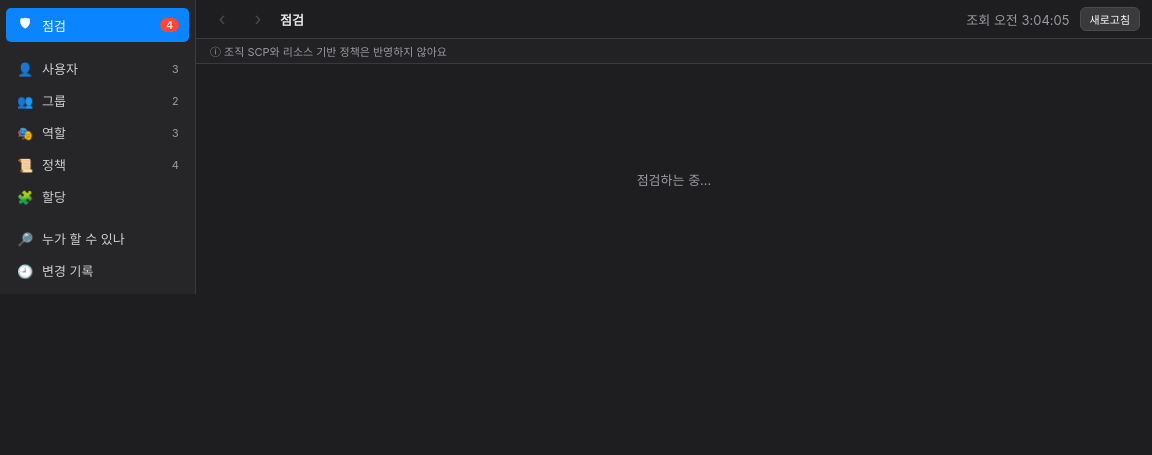
it: menu and lists › the findings view comes back from the other views
The image size is (1152, 455).
Expected: the navigation bar named "IAM 메뉴" is shown, [0,0,196,294]
Click the button "👥 그룹 2" at (98, 100), box [6,85,189,116]
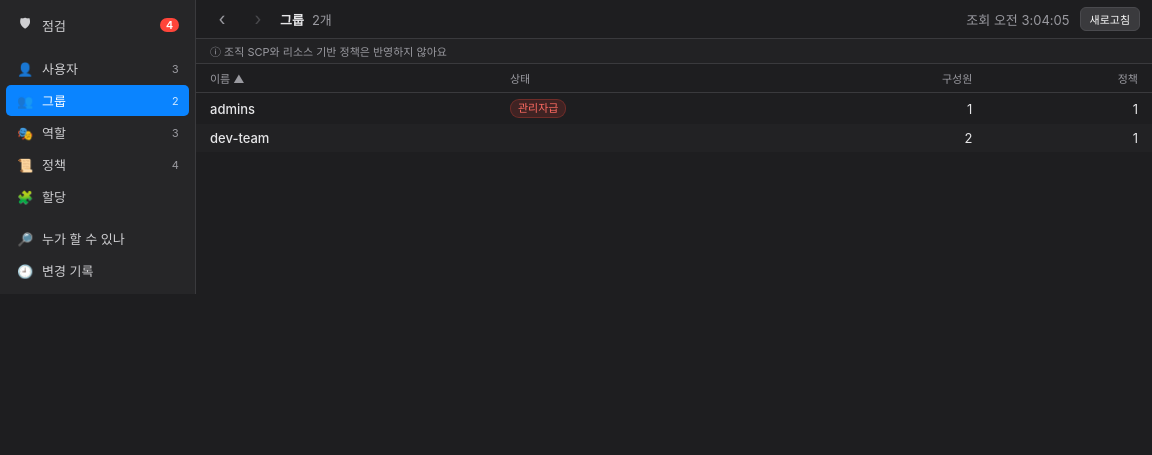
Click the button "🛡 점검 4" at (98, 25), box [6,8,189,42]
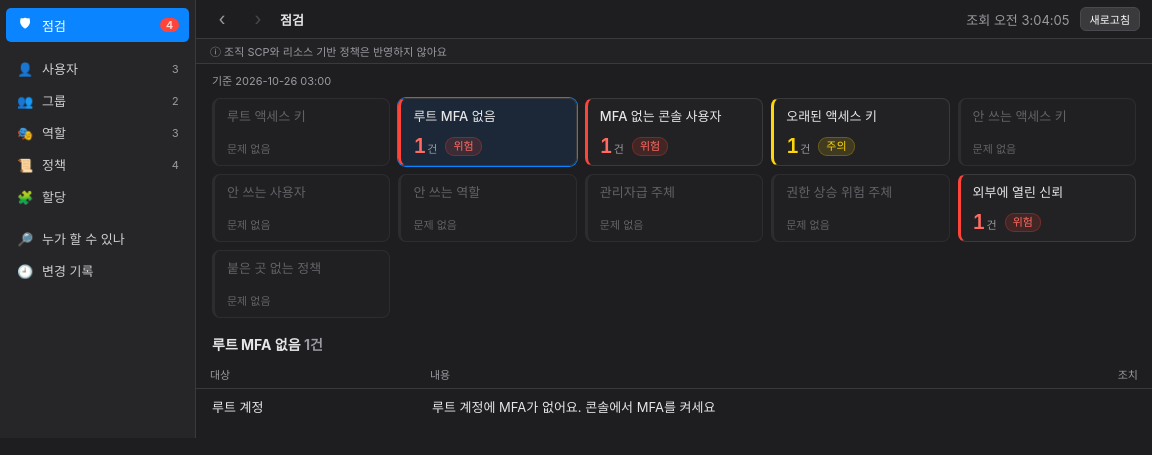
Expected: the element named "점검 항목" is shown, [196,88,1151,330]
